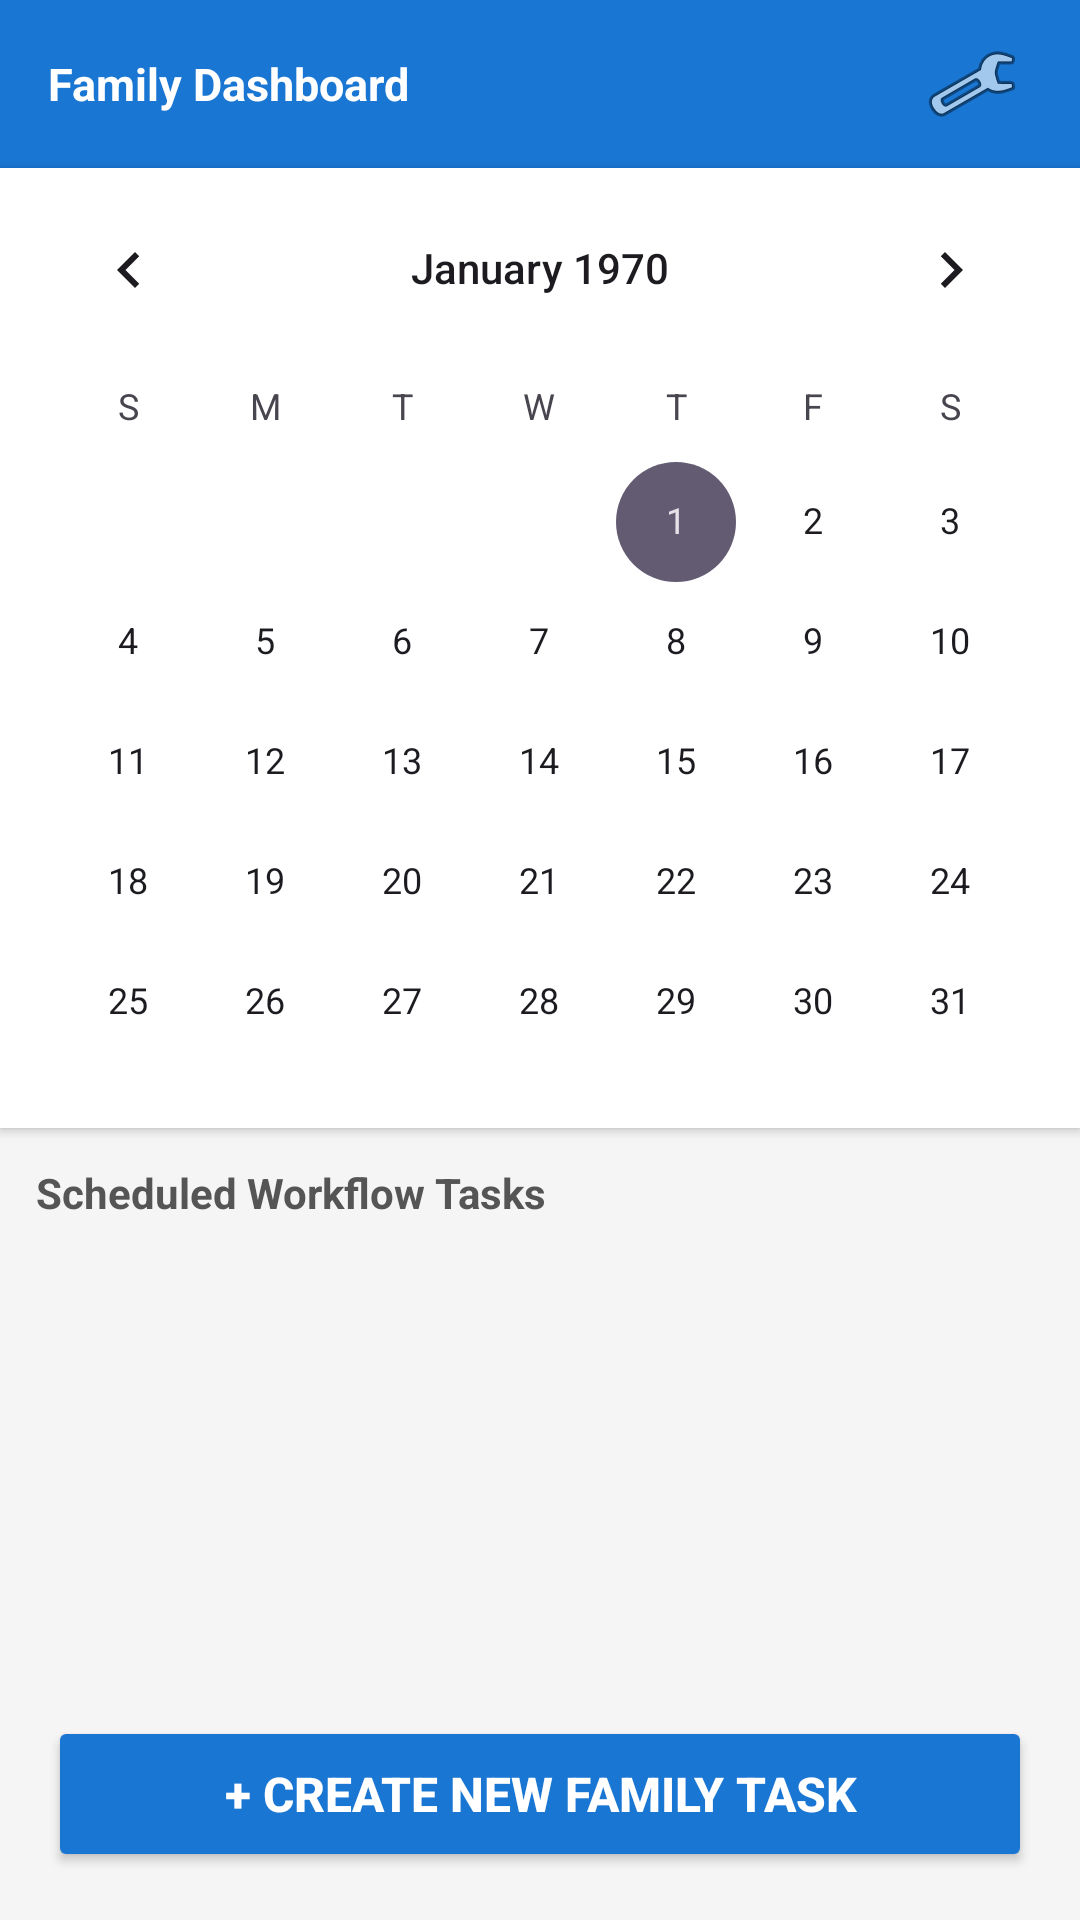

Point at icon controls on the screen. Image size 1080 × 1920, points as [x,y].
Settings: [972,84]
